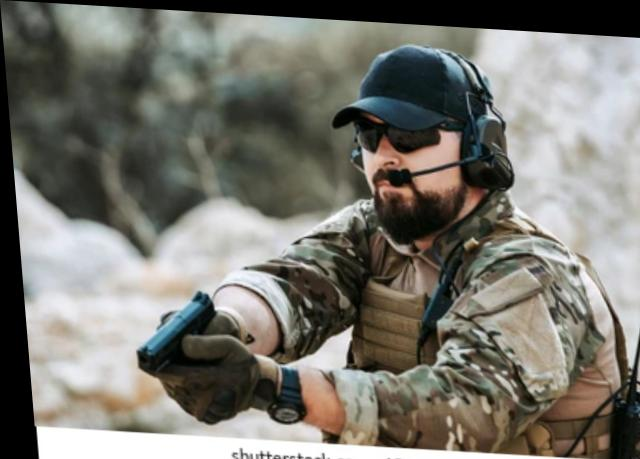other: (327, 44, 620, 450)
